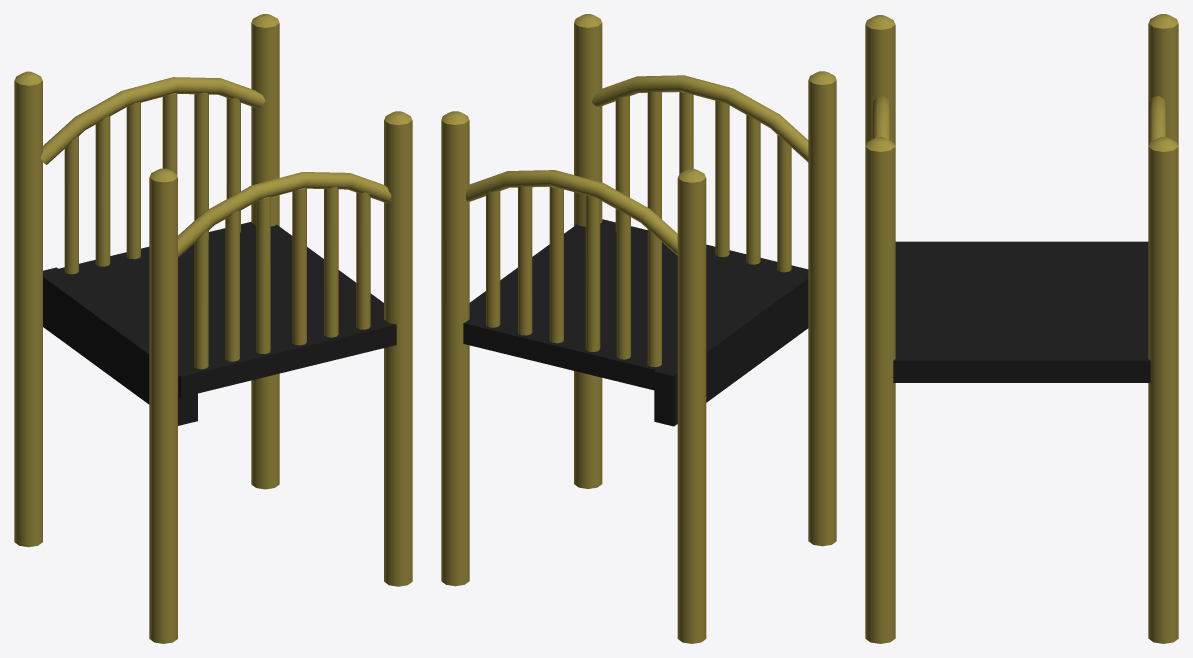
File: ART-MOD-A-Bridge-002.FBX
3 views of the same model, side by side, from view 1: azimuth 30°, elevation 25°; view 2: azimuth 150°, elevation 25°; view 3: azimuth 270°, elevation 25° (orthographic). The views are drawn at different scales.
Parts seen in each view (by area): view 1: Cylinder082; view 2: Cylinder082; view 3: Cylinder082.
Part boxes in pixels (x1,y1,x2,y2): Cylinder082: (14, 14, 412, 643); Cylinder082: (441, 14, 836, 643); Cylinder082: (865, 14, 1178, 643).
Size of the model in its own units: 89.35 by 153 by 87.2.
